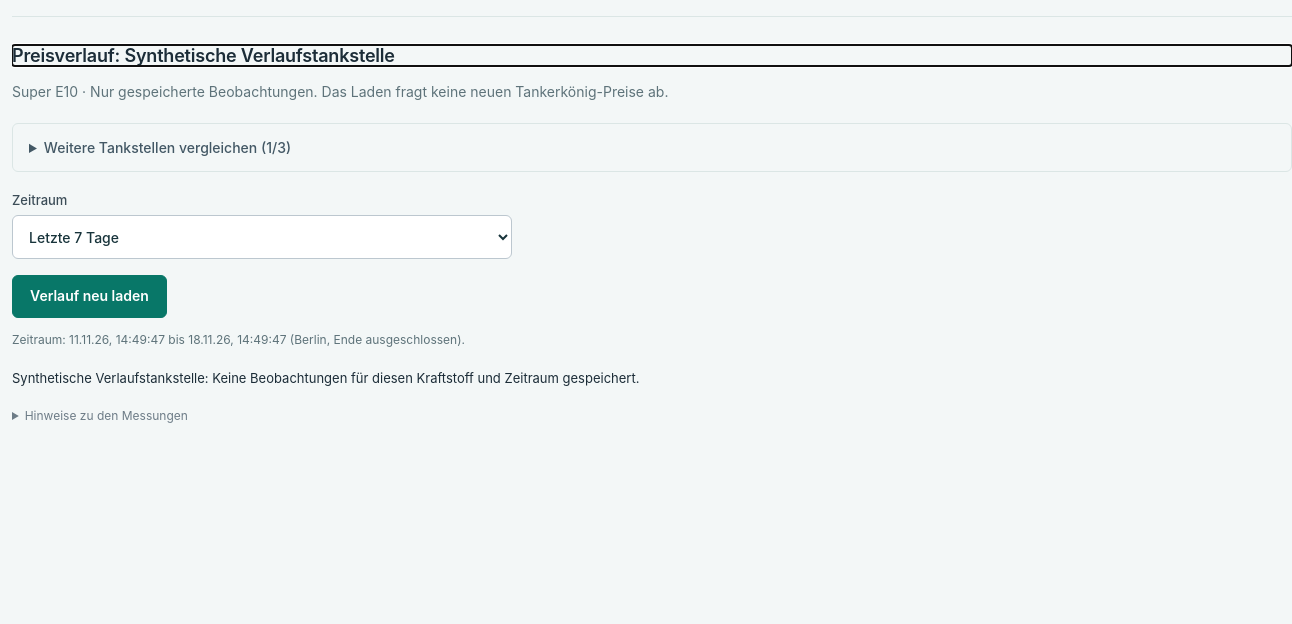
Test: custom calendar range requests only valid dates and includes the final day
Expected: the text "Keine Beobachtungen für diesen Kraftstoff" is shown, x1=205 y1=370 x2=639 y2=386
Select "Eigenen Zeitraum wählen" in the dropdown labelled "Zeitraum". click: (262, 237)
box: x1=12 y1=215 x2=512 y2=259
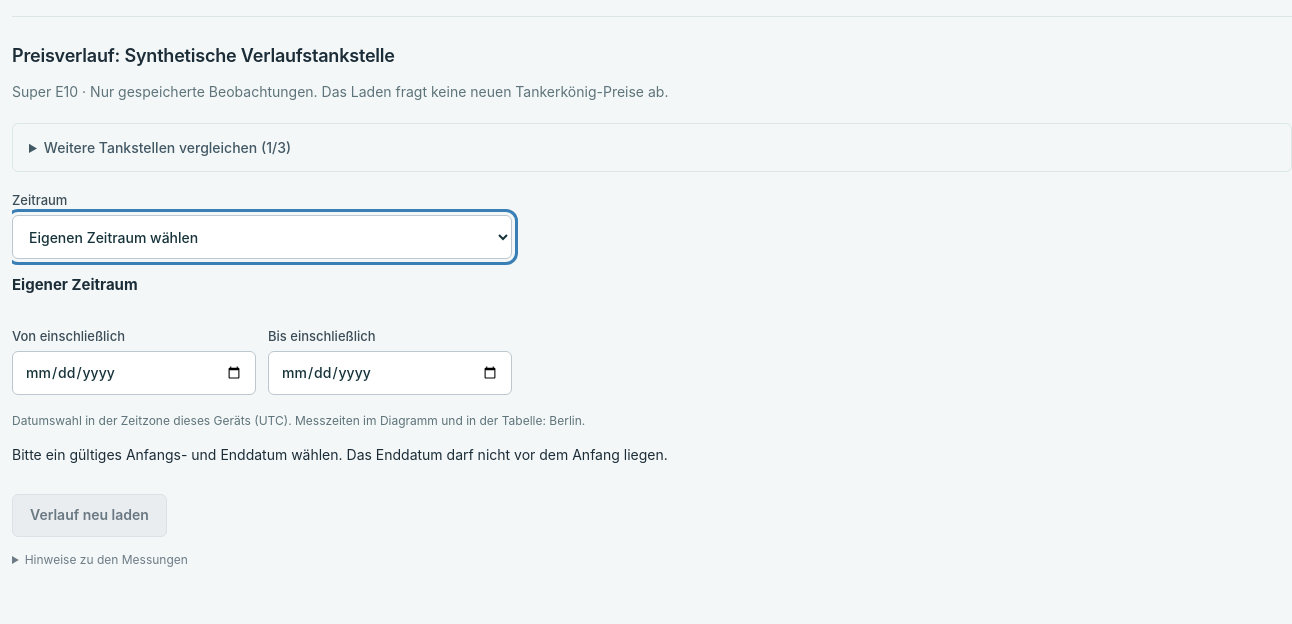
Expected: the button "Verlauf neu laden" is disabled, x1=12 y1=494 x2=167 y2=537
Type "2026-10-22" into the date field labelled "Von einschließlich". click: (134, 373)
box: x1=12 y1=351 x2=256 y2=395
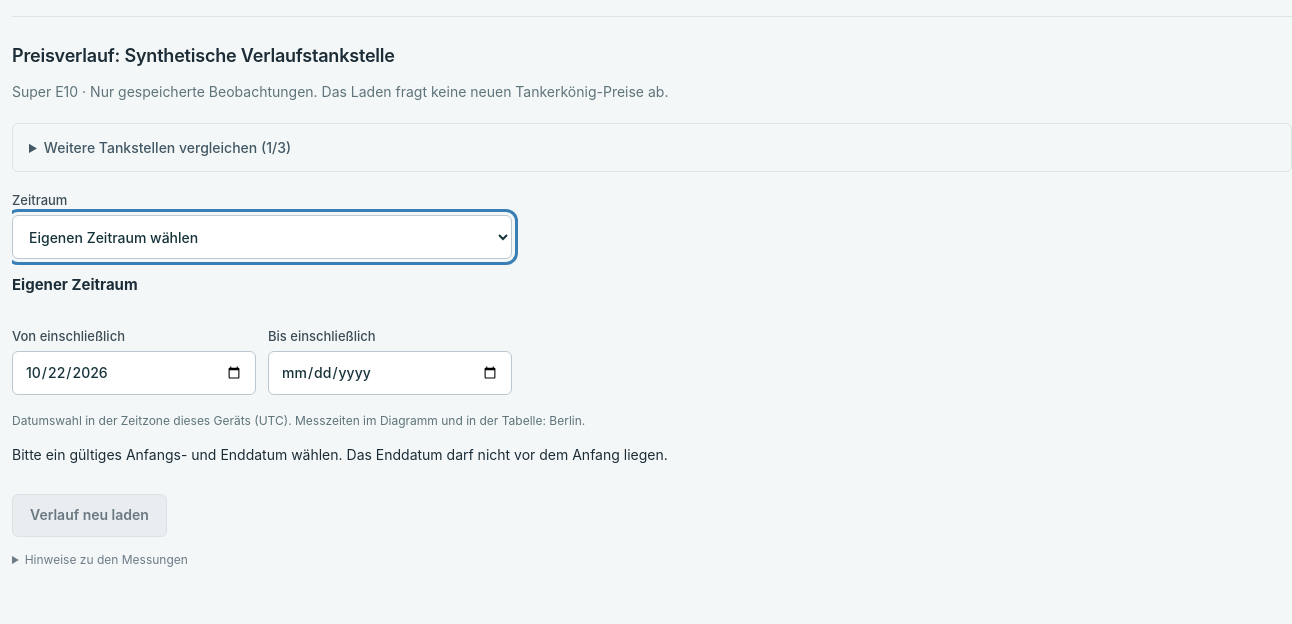
Type "2026-10-30" into the date field labelled "Bis einschließlich". click: (390, 373)
box: x1=268 y1=351 x2=512 y2=395
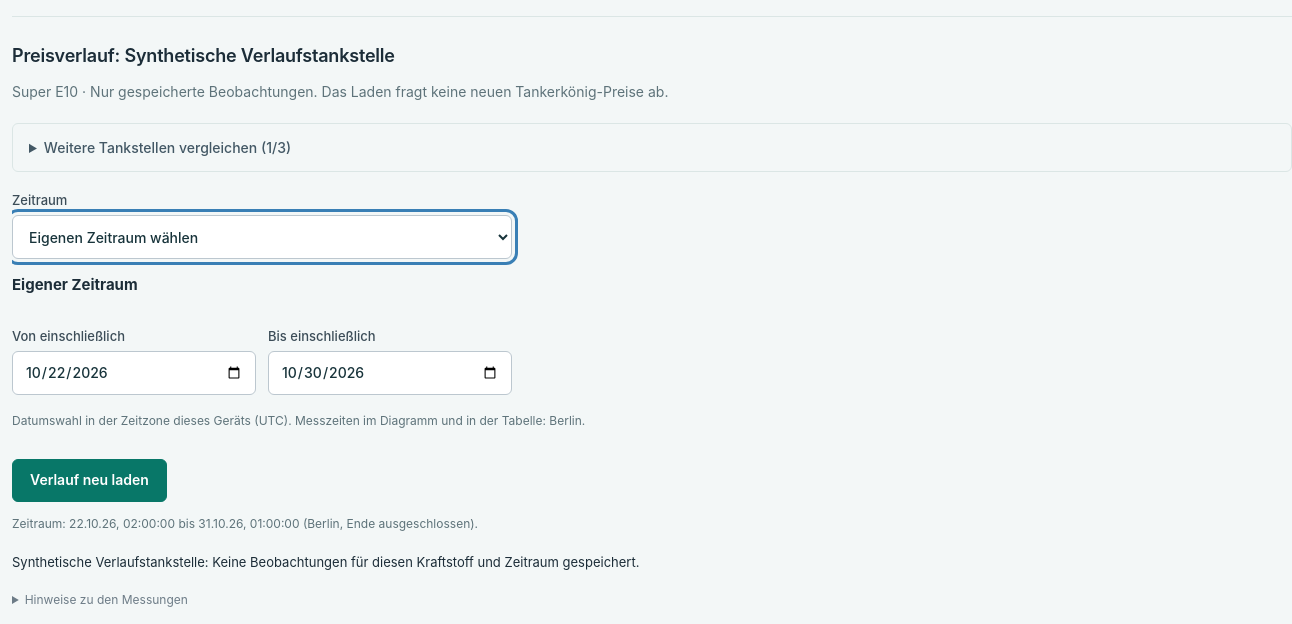
Expected: the text "Keine Beobachtungen für diesen Kraftstoff" is shown, x1=205 y1=554 x2=639 y2=570
Type "2026-11-01" into the date field labelled "Von einschließlich". click: (134, 373)
box: x1=12 y1=351 x2=256 y2=395
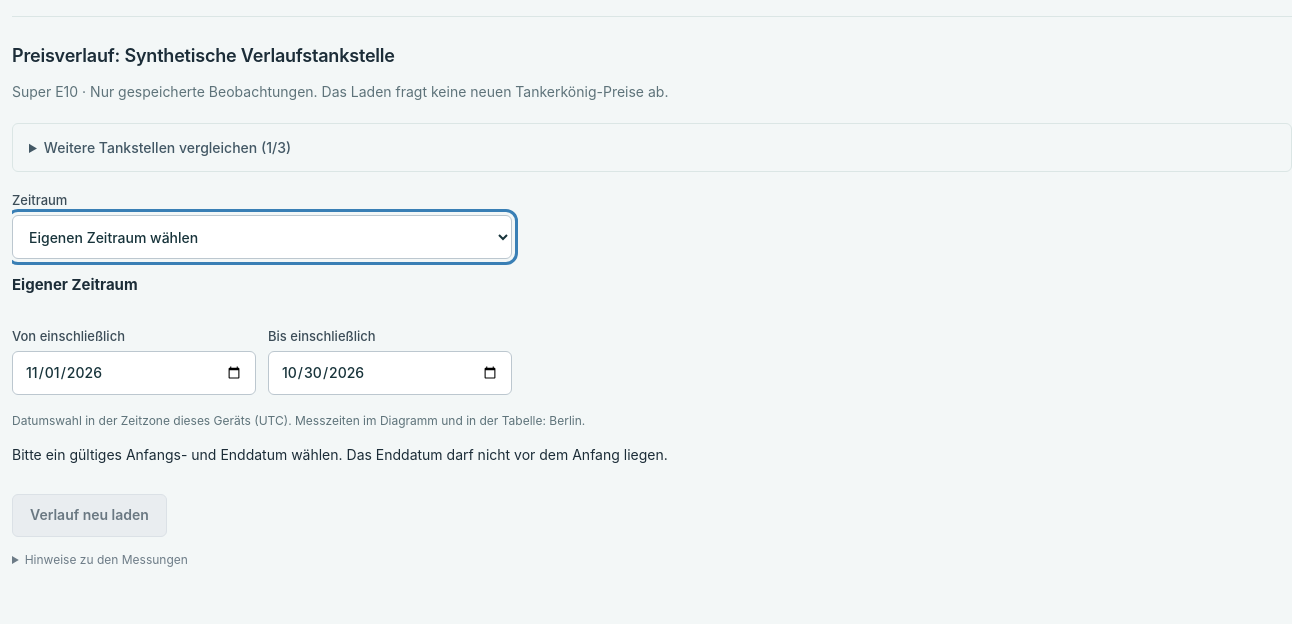
Expected: the message shows "Enddatum", x1=12 y1=446 x2=668 y2=463
